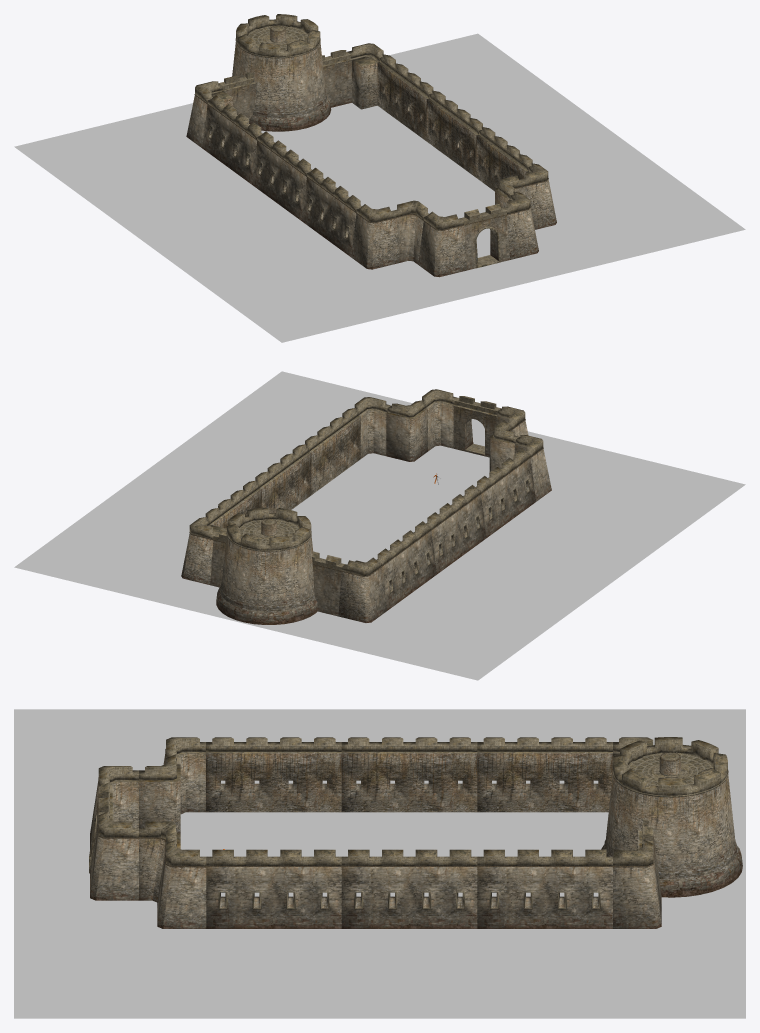
Rendered from courtyard.gltf.
3 renders of one model, top to bottom at view 1: azimuth 30°, elevation 25°; view 2: azimuth 150°, elevation 25°; view 3: azimuth 270°, elevation 25°, orthographic. The views are drawn at different scales.
Parts seen in each view (by area): view 1: ground_plane, modular_fort_01_tower_round.001, modular_fort_01_wall_thin_straight_02.002, modular_fort_01_wall_thin_straight_02.006, modular_fort_01_wall_thin_straight_02.004, modular_fort_01_wall_thin_straight_02.007, modular_fort_01_wall_thin_straight_02.005, modular_fort_01_wall_thin_corner_02.006, modular_fort_01_wall_thin_corner_02.001, modular_fort_01_wall_thin_straight_02.003, modular_fort_01_wall_thin_gate_01.001, modular_fort_01_wall_thin_corner_02.002 (+7 smaller); view 2: ground_plane, modular_fort_01_tower_round.001, modular_fort_01_wall_thin_straight_02.004, modular_fort_01_wall_thin_straight_02.002, modular_fort_01_wall_thin_straight_02.006, modular_fort_01_wall_thin_straight_02.003, modular_fort_01_wall_thin_straight_02.005, modular_fort_01_wall_thin_corner_02.004, modular_fort_01_wall_thin_corner_01.002, modular_fort_01_wall_thin_gate_01.001, modular_fort_01_wall_thin_corner_02.003, modular_fort_01_wall_thin_corner_02.005 (+7 smaller); view 3: ground_plane, modular_fort_01_tower_round.001, modular_fort_01_wall_thin_straight_02.005, modular_fort_01_wall_thin_straight_02.003, modular_fort_01_wall_thin_straight_02.007, modular_fort_01_wall_thin_straight_02.004, modular_fort_01_wall_thin_straight_02.002, modular_fort_01_wall_thin_straight_02.006, modular_fort_01_wall_thin_corner_02.005, modular_fort_01_wall_thin_corner_02.002, modular_fort_01_wall_thin_corner_02.003, modular_fort_01_wall_thin_corner_01.001 (+4 smaller).
Boxes of the visible parts, <box> form: ground_plane: <box>14,33,745,342</box>; modular_fort_01_tower_round.001: <box>232,14,331,131</box>; modular_fort_01_wall_thin_straight_02.002: <box>301,167,361,256</box>; modular_fort_01_wall_thin_straight_02.006: <box>202,95,262,184</box>; modular_fort_01_wall_thin_straight_02.004: <box>252,131,311,220</box>; modular_fort_01_wall_thin_straight_02.007: <box>377,54,433,141</box>; modular_fort_01_wall_thin_straight_02.005: <box>427,90,482,177</box>; modular_fort_01_wall_thin_corner_02.006: <box>351,204,399,269</box>; modular_fort_01_wall_thin_corner_02.001: <box>418,211,466,277</box>; modular_fort_01_wall_thin_straight_02.003: <box>476,127,532,191</box>; modular_fort_01_wall_thin_gate_01.001: <box>460,204,509,270</box>; modular_fort_01_wall_thin_corner_02.002: <box>503,191,538,259</box>; ground_plane: <box>14,371,745,680</box>; modular_fort_01_tower_round.001: <box>216,507,317,624</box>; modular_fort_01_wall_thin_straight_02.004: <box>426,485,486,574</box>; modular_fort_01_wall_thin_straight_02.002: <box>475,448,535,537</box>; modular_fort_01_wall_thin_straight_02.006: <box>376,521,436,610</box>; modular_fort_01_wall_thin_straight_02.003: <box>305,408,360,494</box>; modular_fort_01_wall_thin_straight_02.005: <box>255,444,311,512</box>; modular_fort_01_wall_thin_corner_02.004: <box>338,557,387,622</box>; modular_fort_01_wall_thin_corner_01.002: <box>386,400,427,461</box>; modular_fort_01_wall_thin_gate_01.001: <box>453,396,501,457</box>; modular_fort_01_wall_thin_corner_02.003: <box>181,517,216,584</box>; modular_fort_01_wall_thin_corner_02.005: <box>354,397,391,458</box>; ground_plane: <box>14,709,745,1018</box>; modular_fort_01_tower_round.001: <box>601,737,742,897</box>; modular_fort_01_wall_thin_straight_02.005: <box>341,849,477,928</box>; modular_fort_01_wall_thin_straight_02.003: <box>206,849,341,928</box>; modular_fort_01_wall_thin_straight_02.007: <box>477,849,612,928</box>; modular_fort_01_wall_thin_straight_02.004: <box>341,737,477,812</box>; modular_fort_01_wall_thin_straight_02.002: <box>206,737,341,812</box>; modular_fort_01_wall_thin_straight_02.006: <box>477,737,612,812</box>; modular_fort_01_wall_thin_corner_02.005: <box>157,839,206,928</box>; modular_fort_01_wall_thin_corner_02.002: <box>90,811,138,900</box>; modular_fort_01_wall_thin_corner_02.003: <box>613,840,661,928</box>; modular_fort_01_wall_thin_corner_01.001: <box>139,754,180,833</box>.
Bounding box in the file's own units: 80 × 13.5 × 80.
